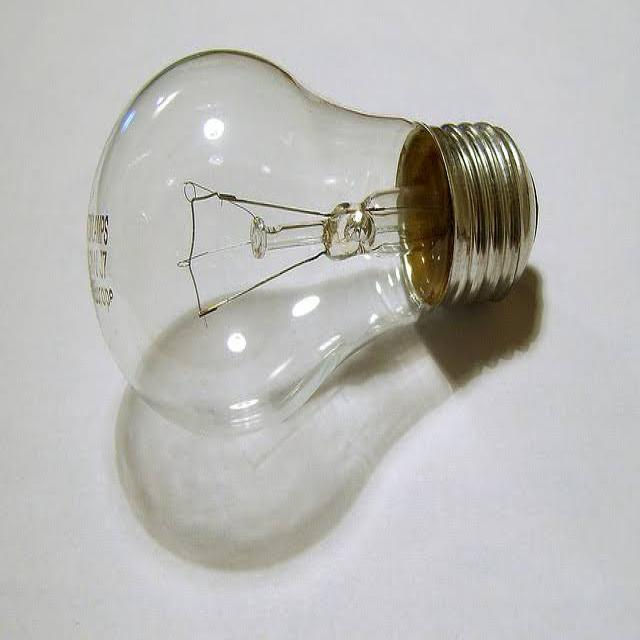bulb: (52, 36, 560, 455)
